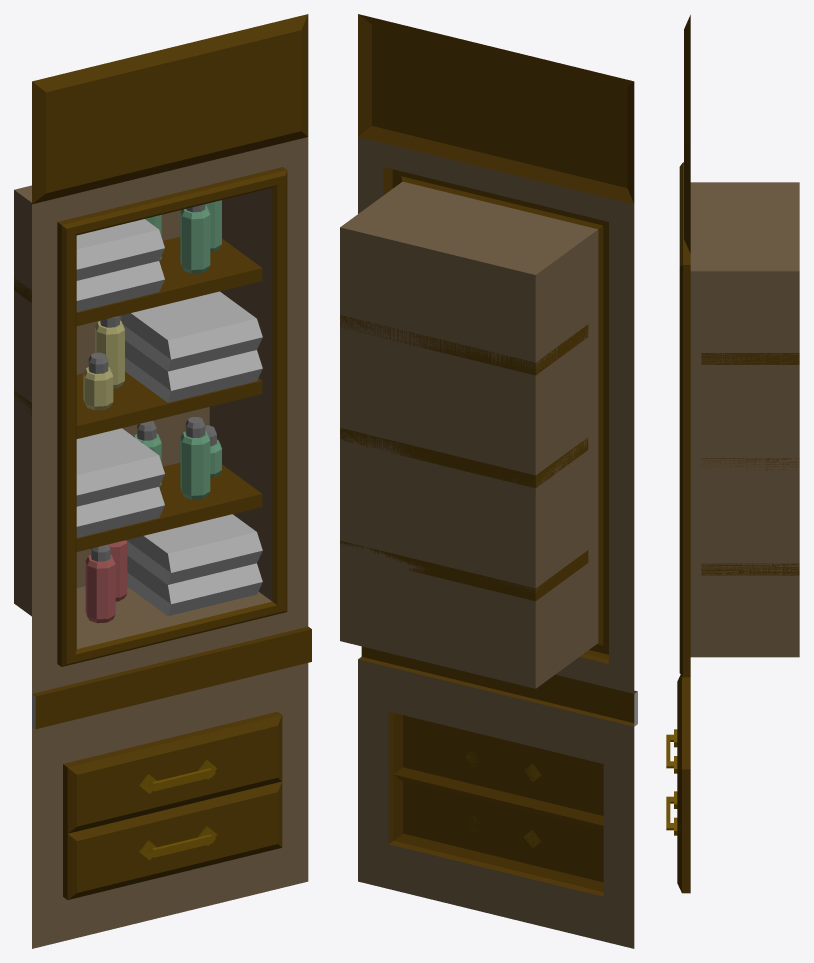
Rendered from ModuloToallas.fbx.
The picture shows the model from 3 angles, left to right: view 1: azimuth 30°, elevation 25°; view 2: azimuth 150°, elevation 25°; view 3: azimuth 270°, elevation 25°; orthographic projection. The views are drawn at different scales.
Parts seen in each view (by area): view 1: ModuloToallas; view 2: ModuloToallas; view 3: ModuloToallas.
Part boxes in pixels (bbox=[...]): ModuloToallas: bbox=[14, 14, 311, 948]; ModuloToallas: bbox=[340, 14, 637, 948]; ModuloToallas: bbox=[666, 15, 799, 893].
Size of the model in its own units: 1 by 3 by 0.4471.
